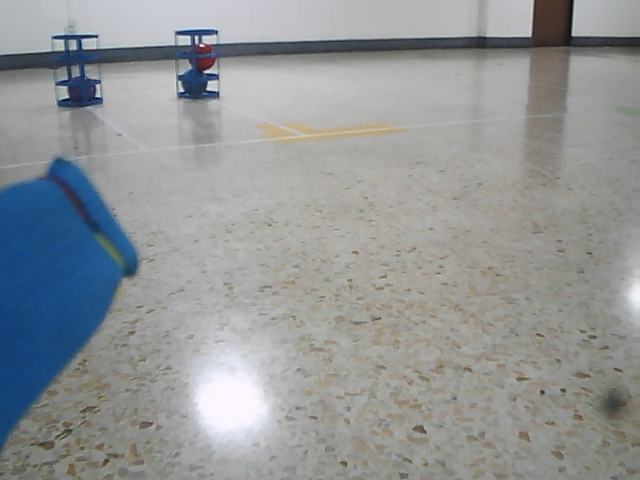Blue ball: (180, 69, 209, 94)
Cyro: (48, 30, 105, 109), (173, 27, 222, 103)
Purple ball: (67, 74, 98, 103)
Red ball: (190, 43, 216, 70)
